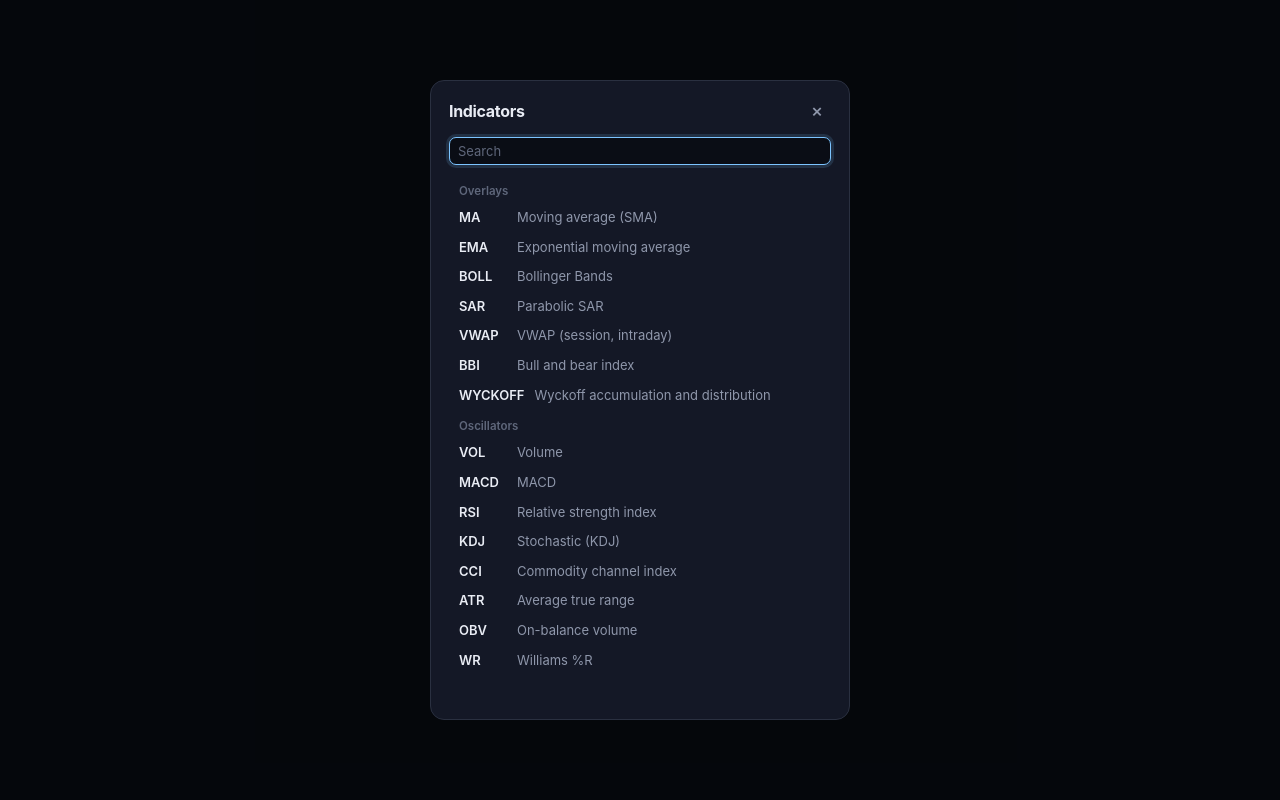
IndicatorPicker › shows an empty state when nothing matches
Type "zzzz" into the search field.
click(640, 151); type("zzzz")  # box [449,137,831,165]
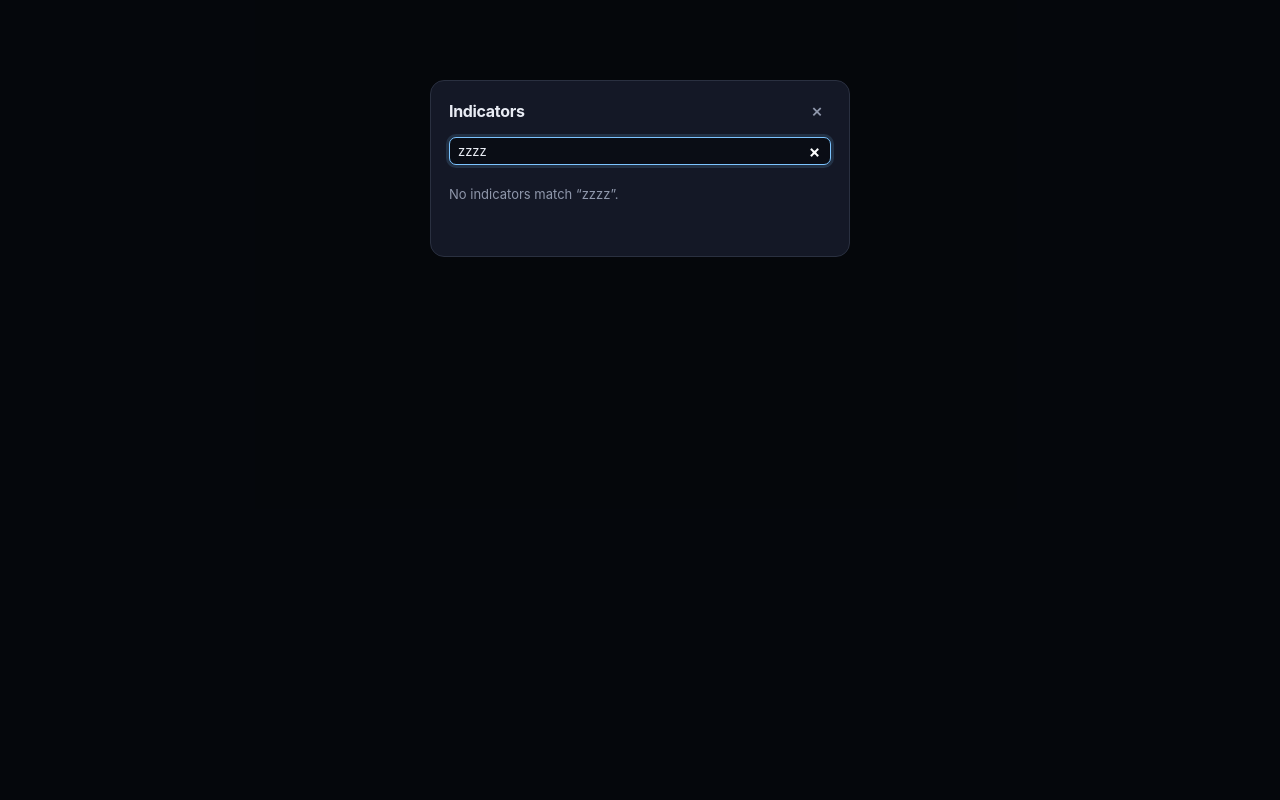
Result: the text "No indicators match “zzzz”." is shown at [449,186,619,202]
